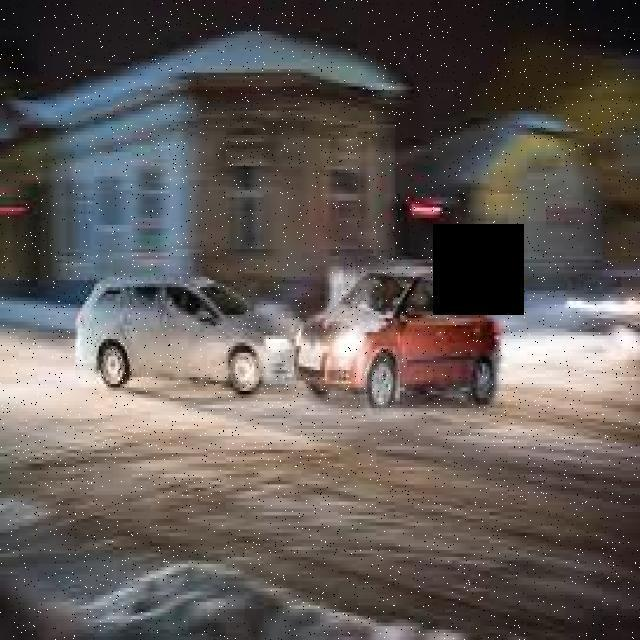multiple_accident: (150, 253, 436, 451)
